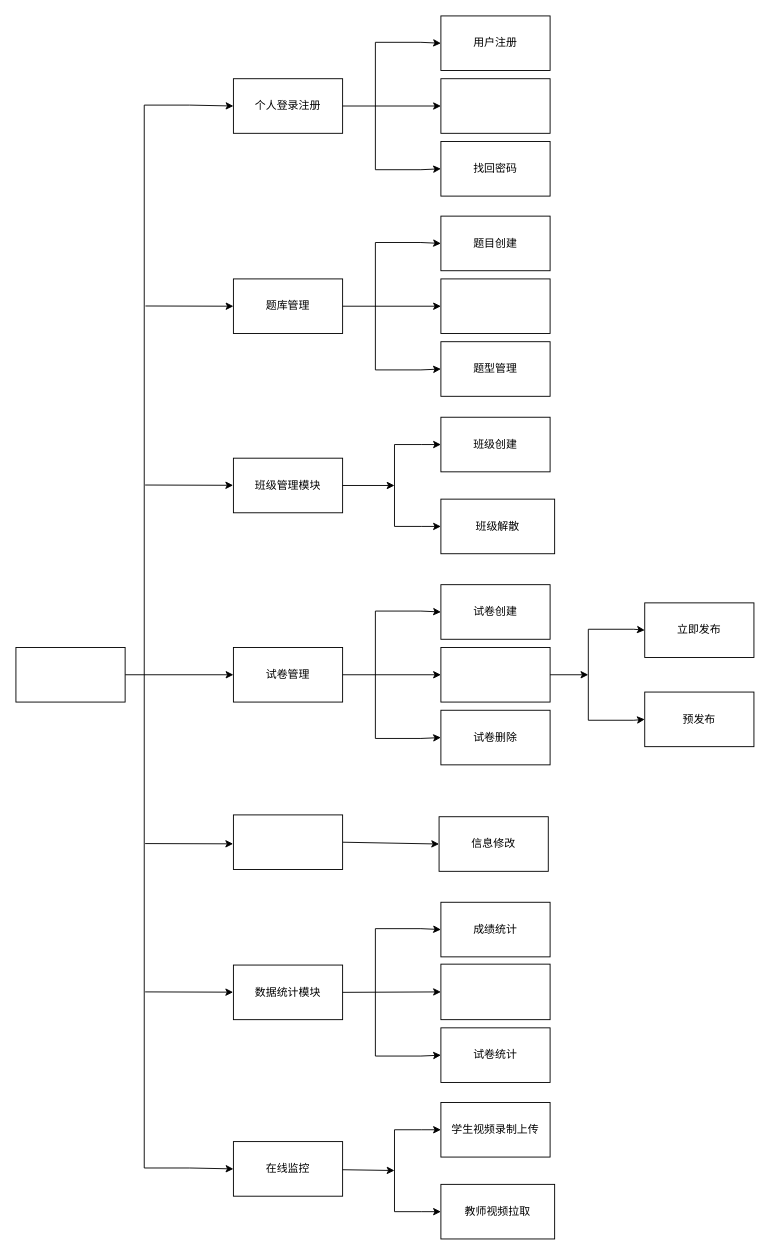
Image size: 770x1255. Some labels were removed from this diagram. Each missing label, with the box of its shape:
个人信息管理: (233, 814, 343, 870)
在线考试系统: (15, 647, 125, 702)
班级统计: (440, 963, 550, 1020)
用户登录: (440, 78, 550, 133)
试卷发布: (440, 647, 550, 702)
题目删除: (440, 278, 550, 334)
